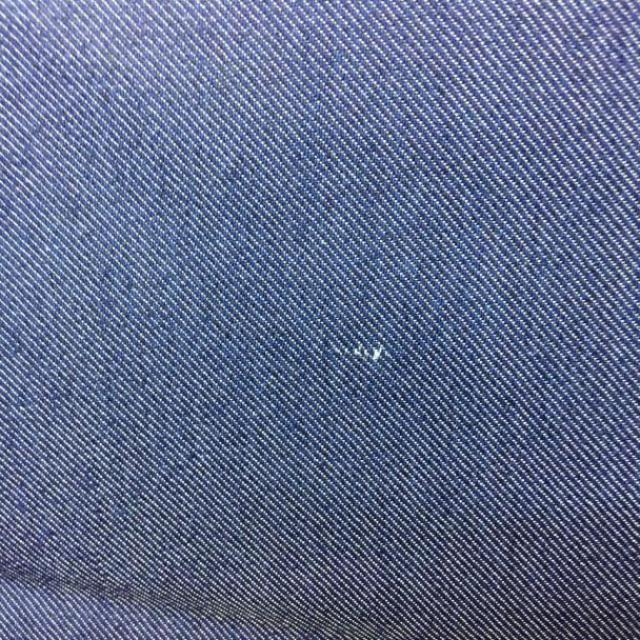Knot: (340, 343, 392, 364)
